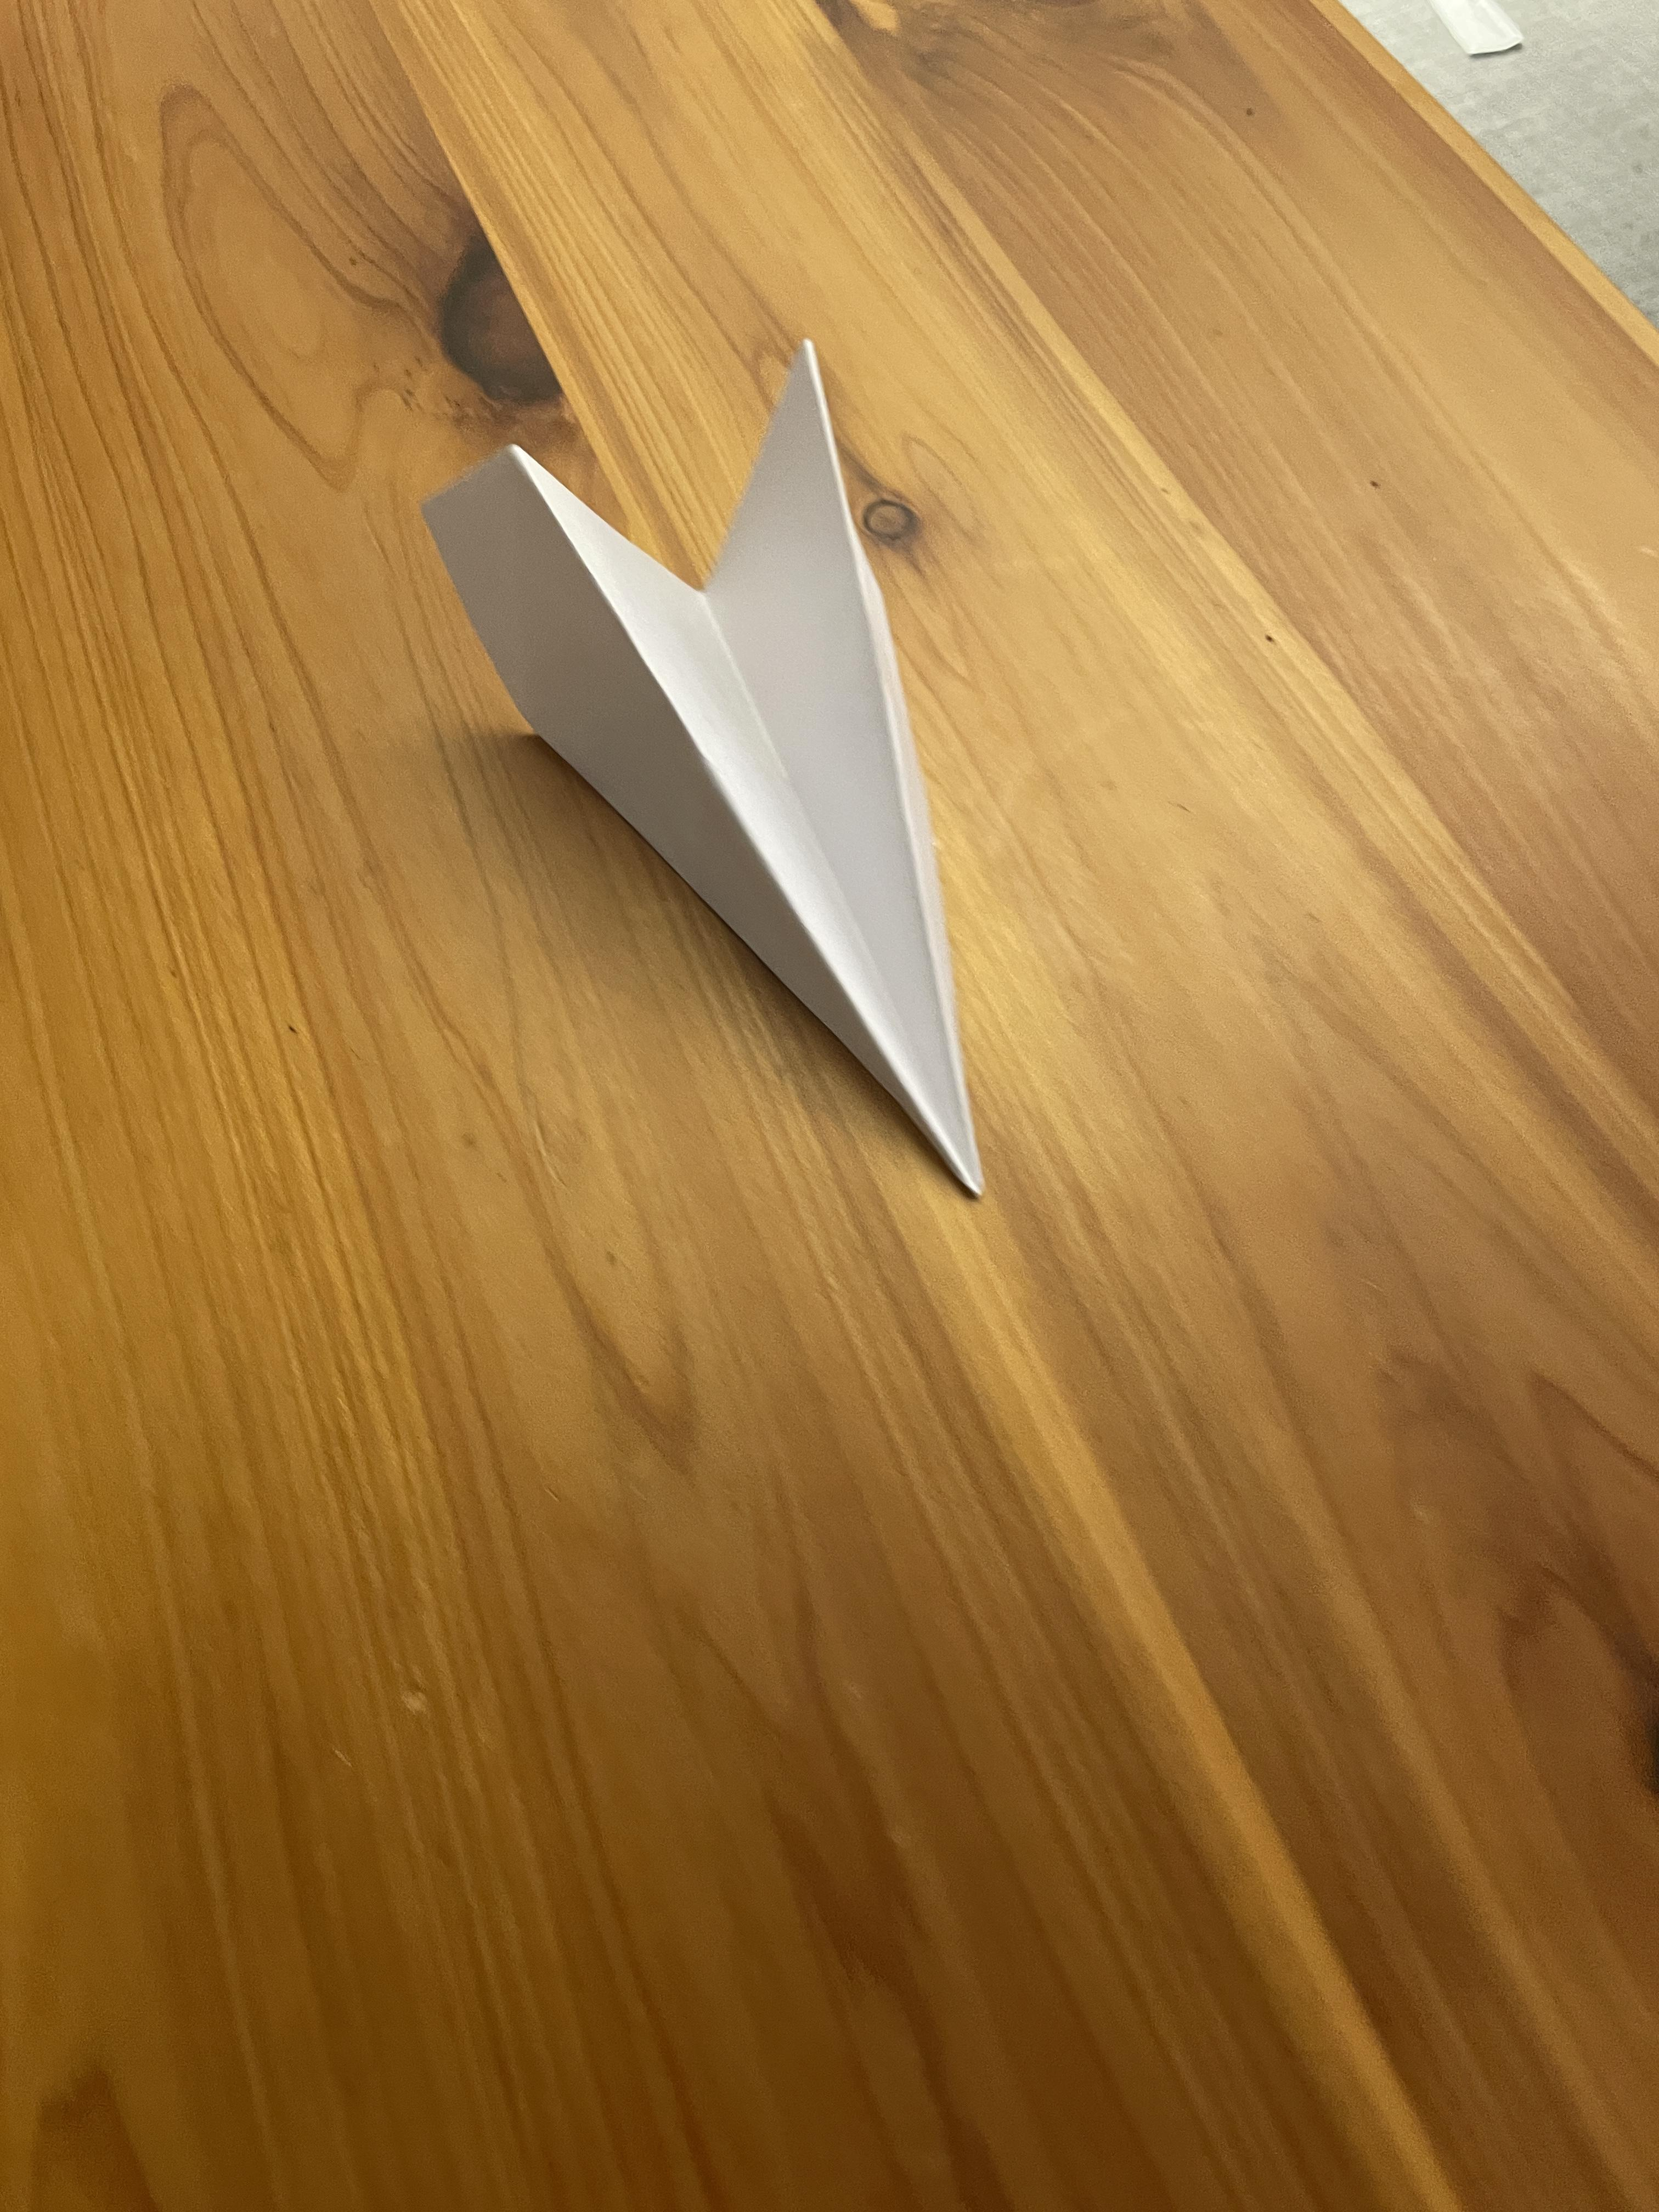shape_3: (368, 242, 1145, 1258)
